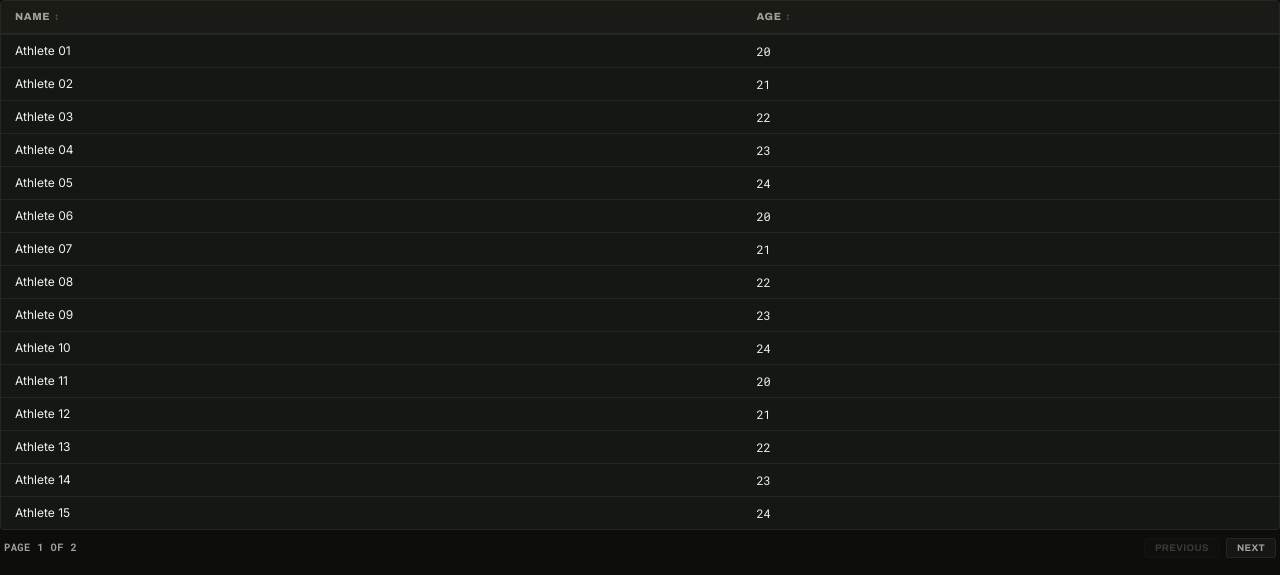
Scenario: DataTable Component › navigates pages and updates page rows when clicking Next and Previous buttons
The image size is (1280, 575).
Expected: the text "PAGE 1 OF 2" is shown, [4,540,77,555]
Expected: the text "Athlete 01" is shown, [1,34,742,67]
Click the button "NEXT".
click(1251, 548)  # box [1226,538,1276,558]
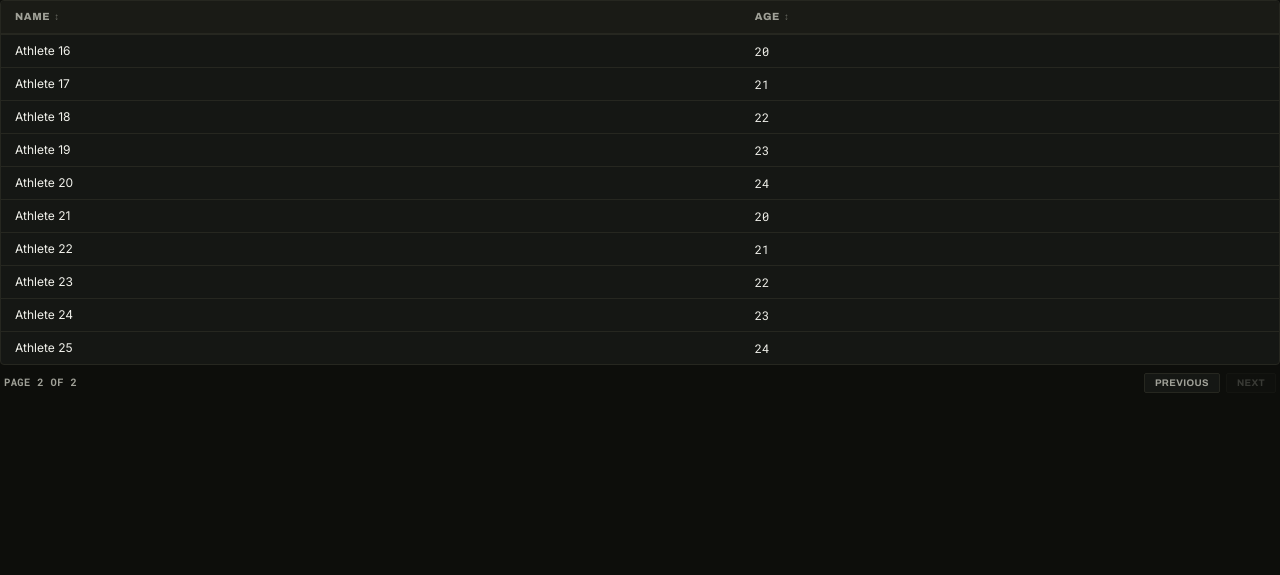
Expected: the text "PAGE 2 OF 2" is shown, [4,375,77,390]
Expected: the text "Athlete 16" is shown, [1,34,741,67]
Expected: the text "Athlete 01" is gone
Click the button "PREVIOUS".
click(1182, 383)  # box [1144,373,1220,393]
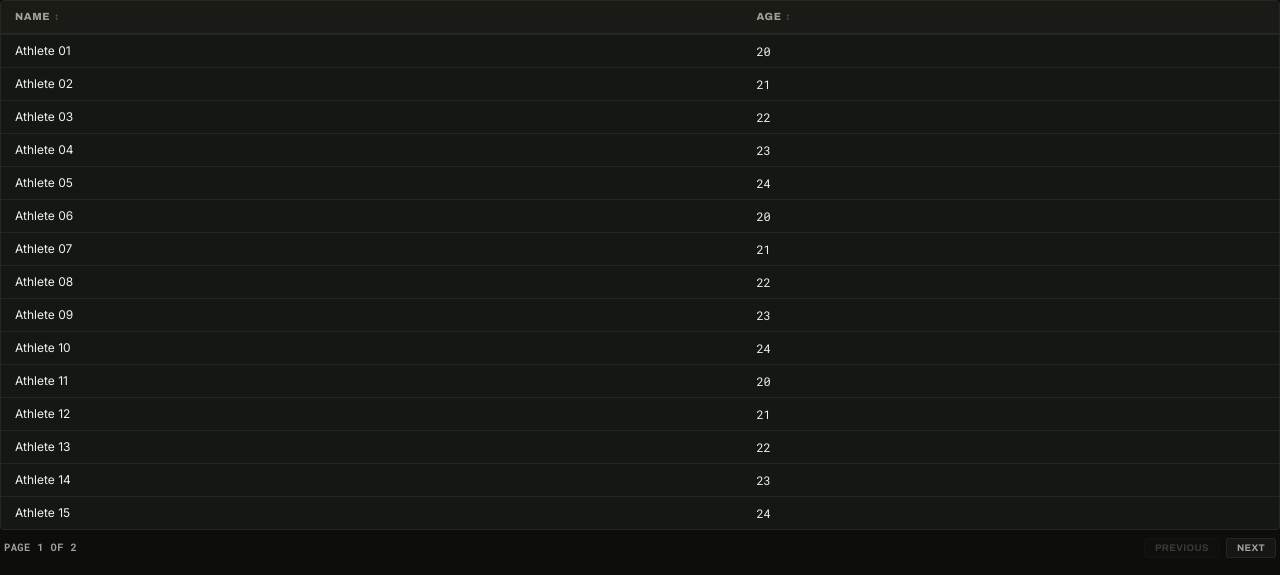
Expected: the text "PAGE 1 OF 2" is shown, [4,540,77,555]
Expected: the text "Athlete 01" is shown, [1,34,742,67]
